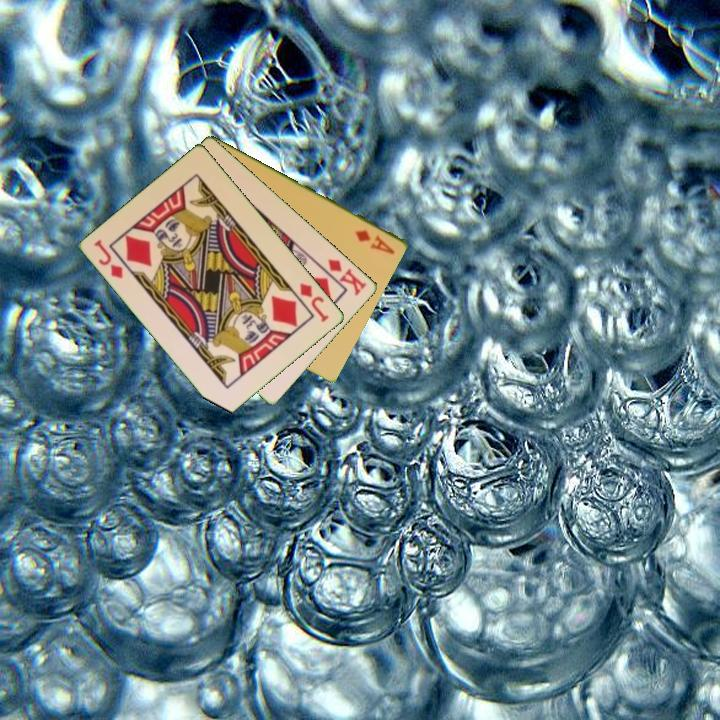Ad: (352, 226, 398, 257)
Jd: (296, 279, 332, 325), (91, 236, 126, 281)
Kd: (324, 255, 370, 299)
